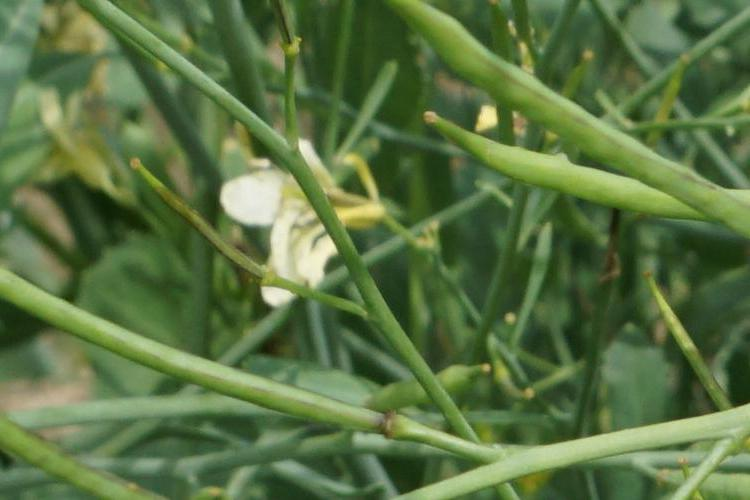pod: (93, 157, 302, 287), (410, 109, 704, 198)
white: (238, 139, 397, 284)
